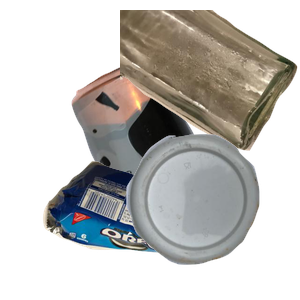glass: (120, 10, 300, 153)
metal: (69, 58, 300, 238)
plastic: (124, 132, 300, 300)
trash: (40, 158, 245, 300)
